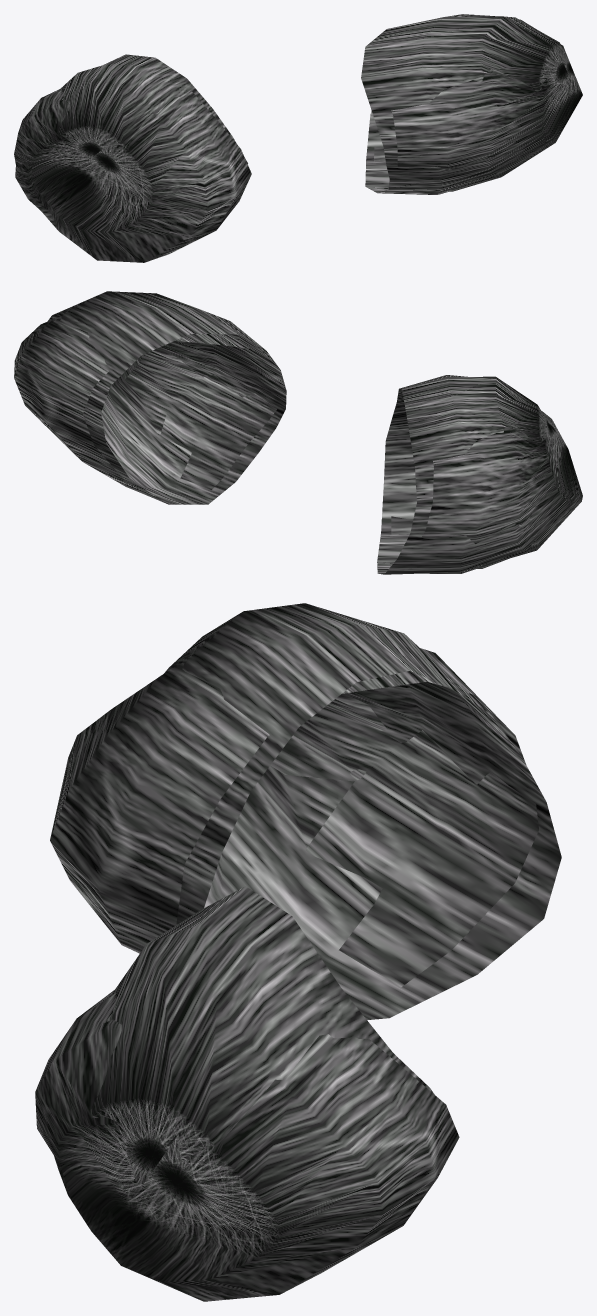
Rendered from INST_SB_BROKEN_COCOON.fbx.
The picture shows the model from 3 angles, top to bottom: view 1: azimuth 30°, elevation 25°; view 2: azimuth 150°, elevation 25°; view 3: azimuth 270°, elevation 25°; orthographic projection. The views are drawn at different scales.
Parts seen in each view (by area): view 1: INST_SB_BROKEN_COCOON; view 2: INST_SB_BROKEN_COCOON; view 3: INST_SB_BROKEN_COCOON.
Boxes of the visible parts, <box> form: INST_SB_BROKEN_COCOON: <box>14,14,582,262</box>; INST_SB_BROKEN_COCOON: <box>14,291,582,574</box>; INST_SB_BROKEN_COCOON: <box>35,603,561,1301</box>.
Bounding box in the file's own units: 25106 × 8342 × 10909.
Materials: 1 (1 with a texture image).
